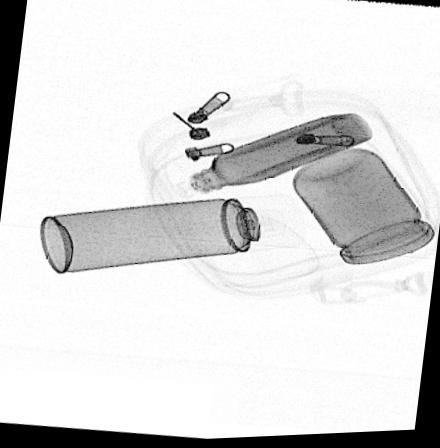Sprayer: (38, 198, 297, 274)
